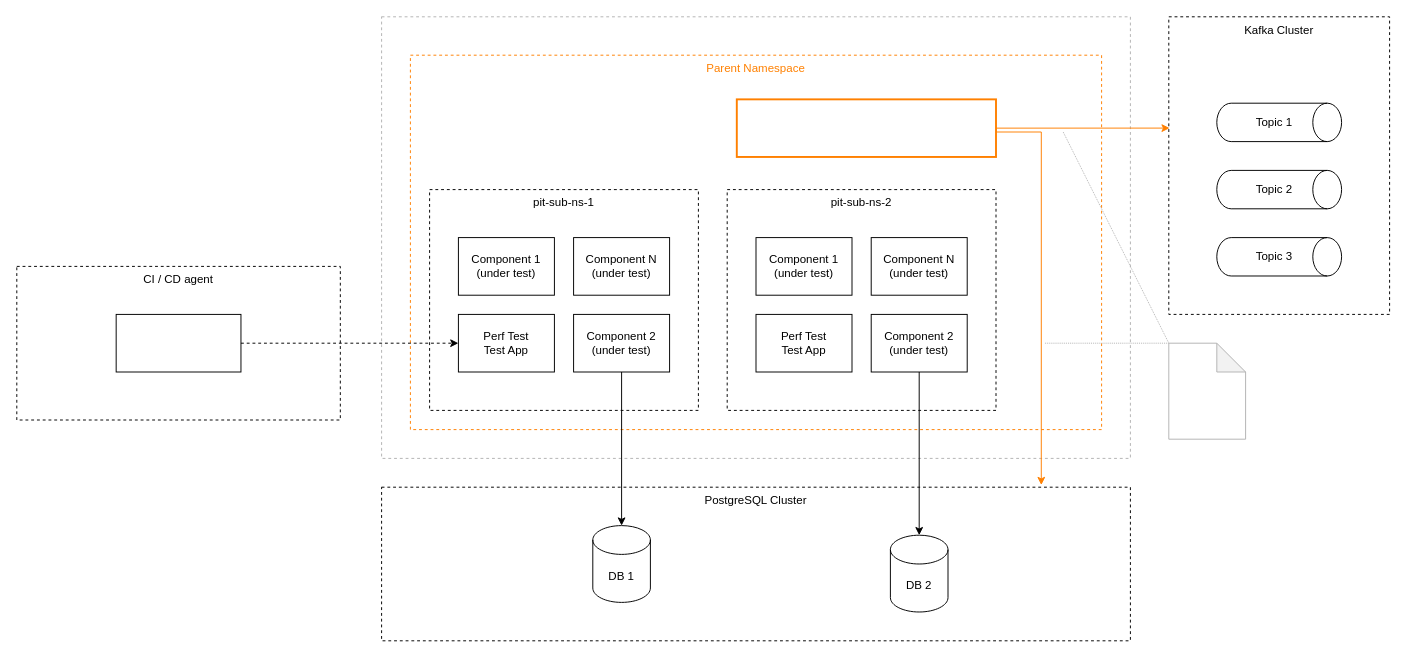
The diagram is 1406 pixels wide and 658 high, and some of its shapes have lost their labels. Here are the shapes that lost their labels. From the top down, the centre of each, then its label:
At point (865, 127): "Brownie".
At point (178, 342): "k8s-deployer".
At point (1207, 390): "Period scanning and removal".
